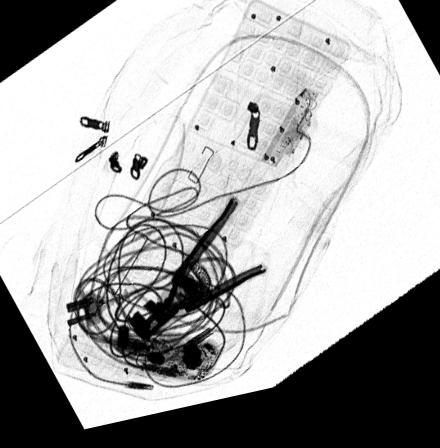Pliers: (130, 207, 267, 350)
